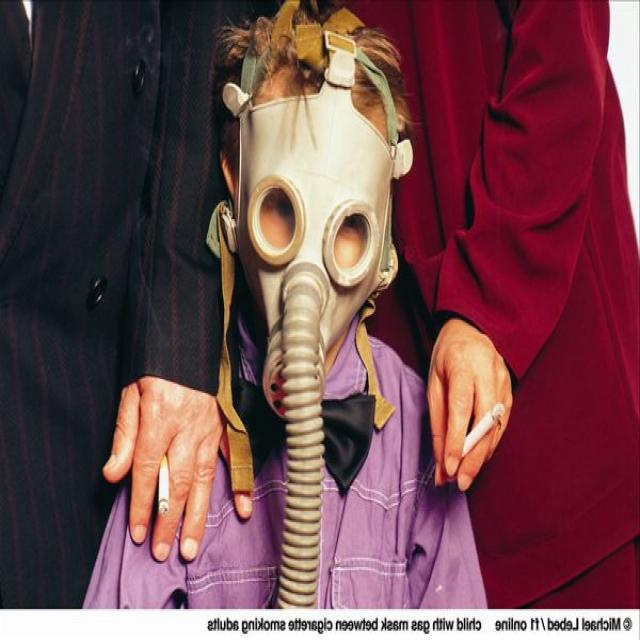smoking: (449, 393, 505, 468), (153, 442, 173, 518)
